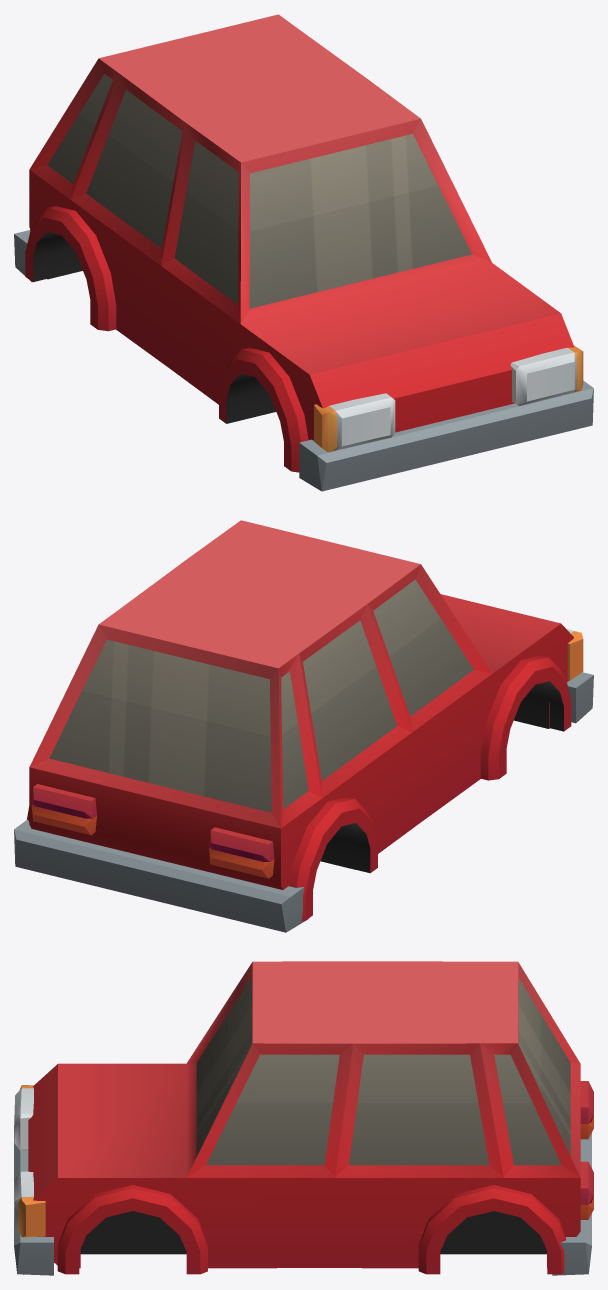
The model's file is car_hatchback.obj.
3 views of the same model, one above another, from view 1: azimuth 30°, elevation 25°; view 2: azimuth 150°, elevation 25°; view 3: azimuth 270°, elevation 25° (orthographic). The views are drawn at different scales.
Bounding box in the file's own units: 0.419 × 0.38 × 0.8061.
Materials: 1 (1 with a texture image).
